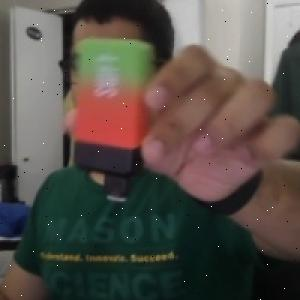Swift-E-Ciggirate: (66, 33, 157, 202)
